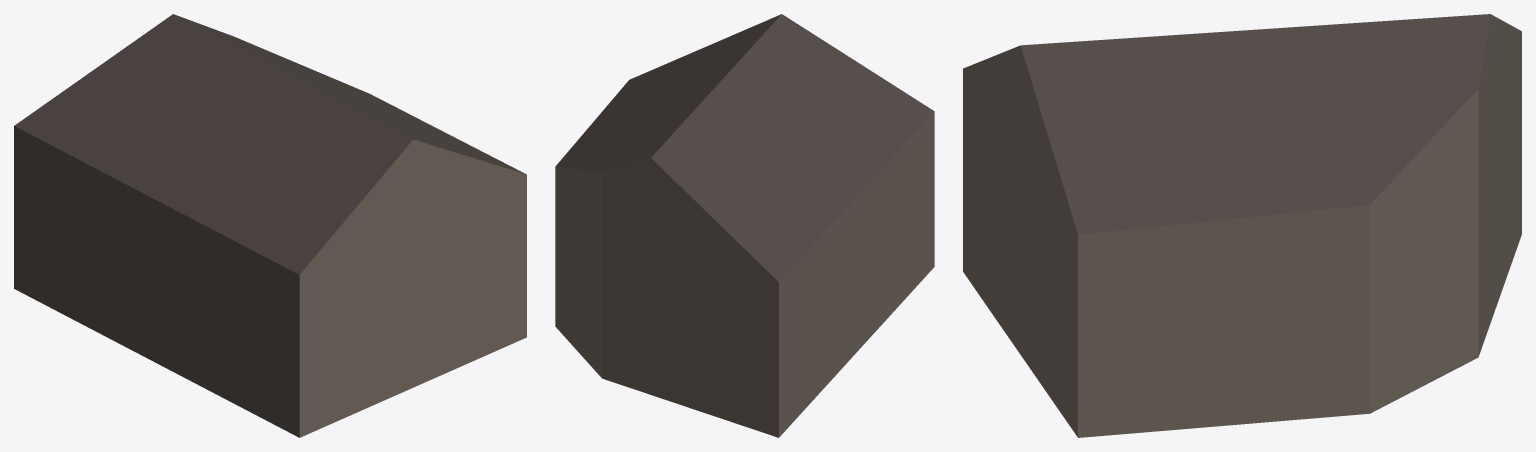
The picture shows the model from 3 angles, left to right: view 1: azimuth 30°, elevation 25°; view 2: azimuth 150°, elevation 25°; view 3: azimuth 270°, elevation 25°; orthographic projection. The views are drawn at different scales.
Parts seen in each view (by area): view 1: HP-w1198867494; view 2: HP-w1198867494; view 3: HP-w1198867494.
Boxes of the visible parts, <box> form: HP-w1198867494: <box>14,14,526,437</box>; HP-w1198867494: <box>555,14,934,437</box>; HP-w1198867494: <box>963,14,1521,437</box>.
Bounding box in the file's own units: 12.9 × 9.14 × 14.97.
